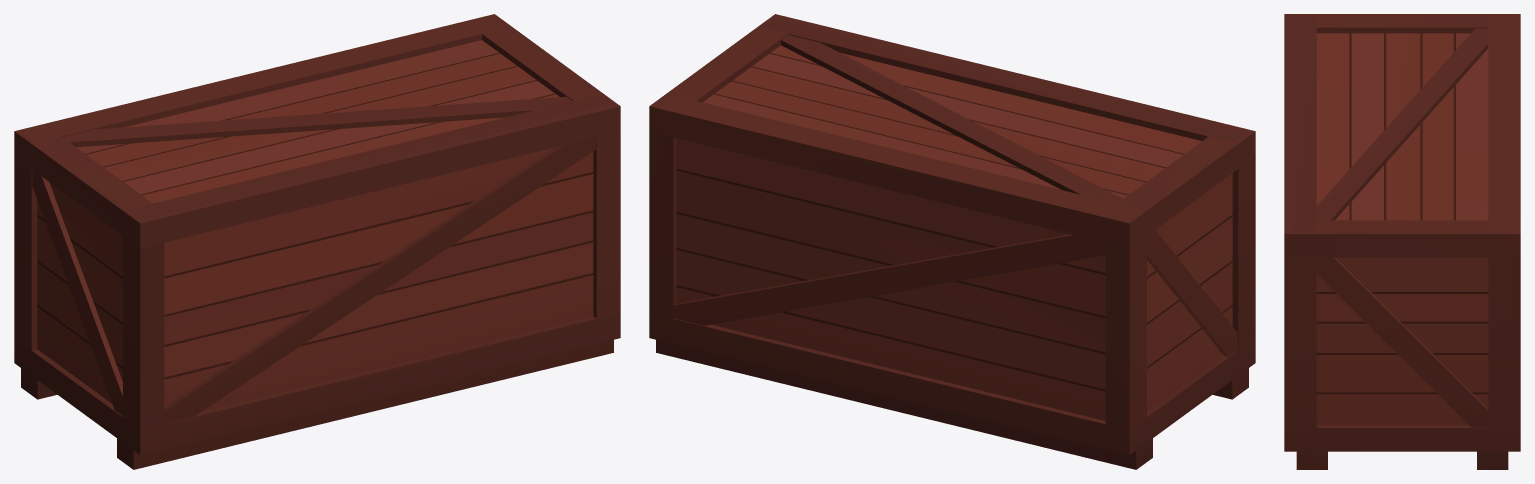
File: crate.factory_long.red_oxide.glb
3 views of the same model, side by side, from view 1: azimuth 30°, elevation 25°; view 2: azimuth 150°, elevation 25°; view 3: azimuth 270°, elevation 25° (orthographic). The views are drawn at different scales.
Parts seen in each view (by area): view 1: crate_factory_long_red_oxide; view 2: crate_factory_long_red_oxide; view 3: crate_factory_long_red_oxide.
Boxes of the visible parts, <box> form: crate_factory_long_red_oxide: <box>14,14,620,469</box>; crate_factory_long_red_oxide: <box>649,14,1255,469</box>; crate_factory_long_red_oxide: <box>1284,14,1520,469</box>.
Size of what is drawn, in the model's own units: 1.8 by 0.9 by 0.818.
